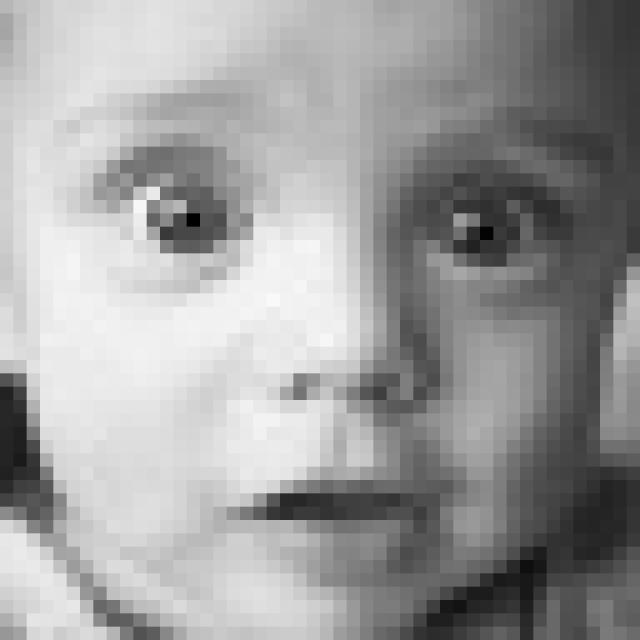surprise: (46, 86, 604, 585)
